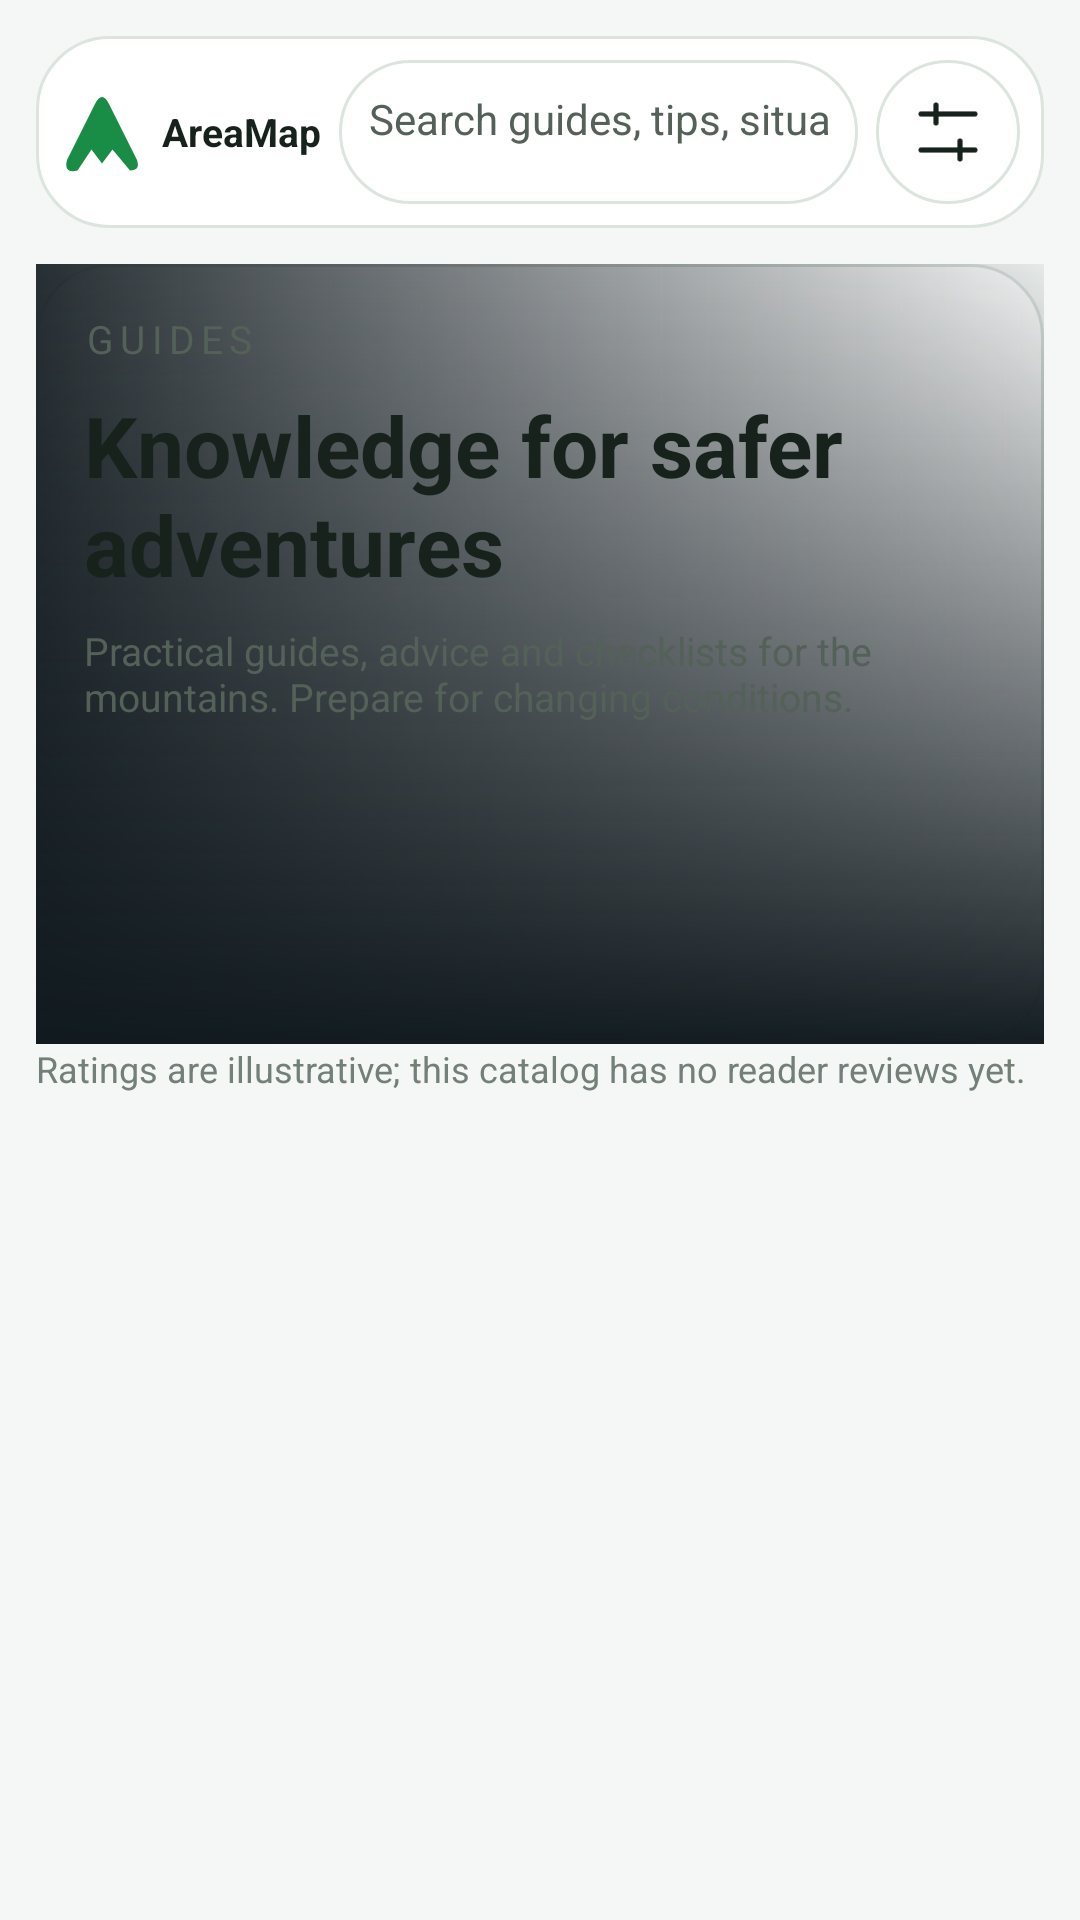

Named icons in this screenshot (1080*1920) and their centers, [x,y]:
Guide filters: [948,132]
